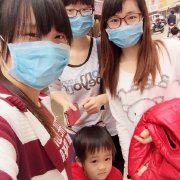NONE: (88, 153, 112, 180)
OK: (7, 25, 70, 88), (107, 13, 142, 50), (64, 4, 96, 37)
